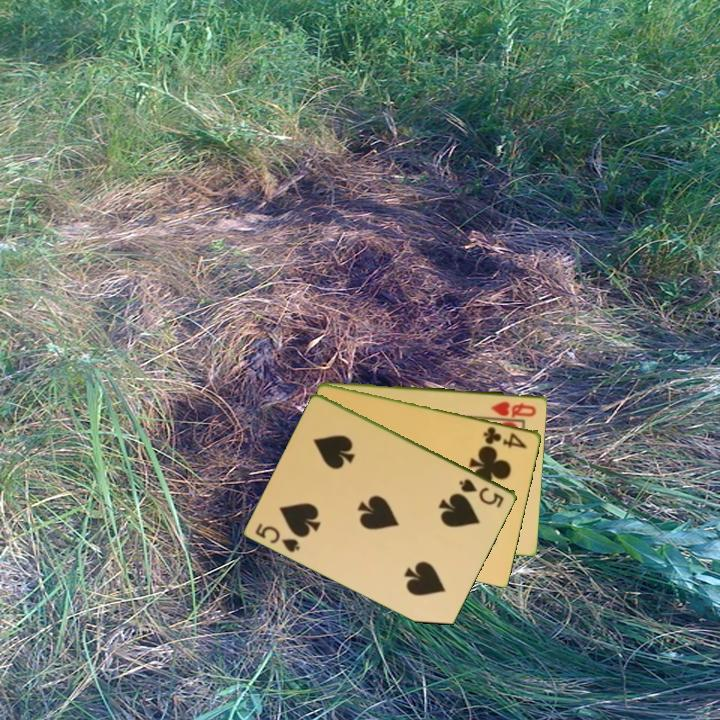4c: (480, 423, 531, 451)
5s: (252, 519, 304, 555), (456, 475, 507, 511)
Qh: (488, 397, 539, 419)
